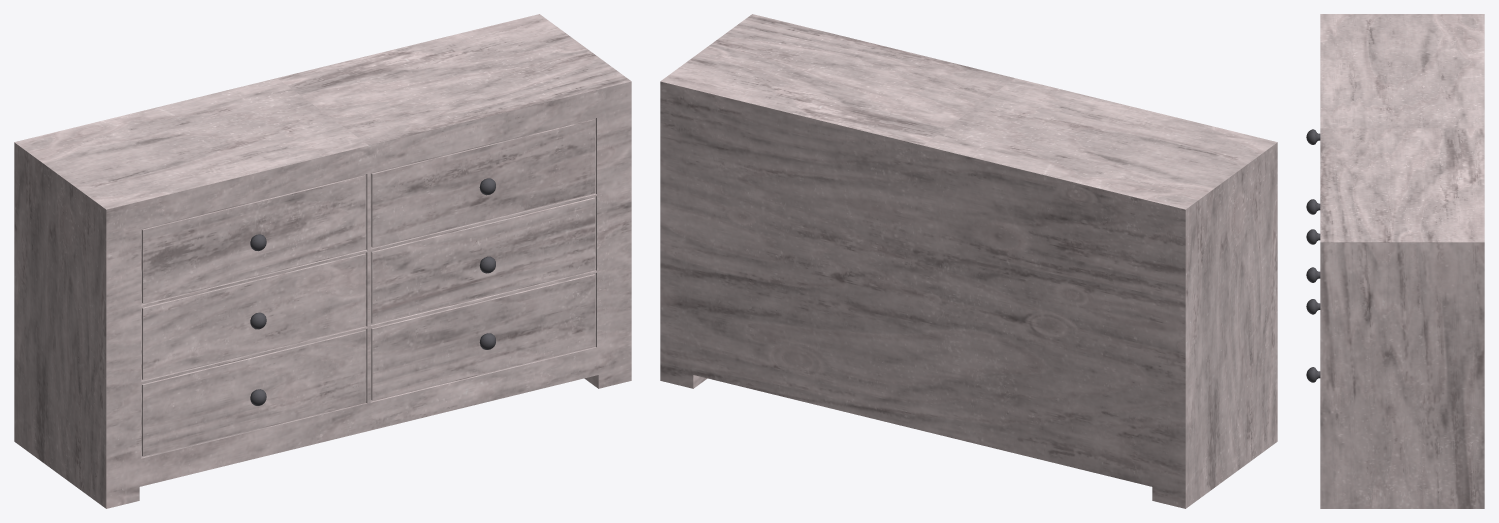
Rendered from Dresser Final.fbx.
3 views of the same model, side by side, from view 1: azimuth 30°, elevation 25°; view 2: azimuth 150°, elevation 25°; view 3: azimuth 270°, elevation 25° (orthographic). The views are drawn at different scales.
Visible parts, largest first — view 1: Dresser; view 2: Dresser; view 3: Dresser.
Boxes of the visible parts, left/top/right/bottom form: Dresser: left=14, top=14, right=631, bottom=508; Dresser: left=660, top=14, right=1277, bottom=508; Dresser: left=1306, top=14, right=1484, bottom=508.
Size of the model in its own units: 4.28 by 2.33 by 1.41.
